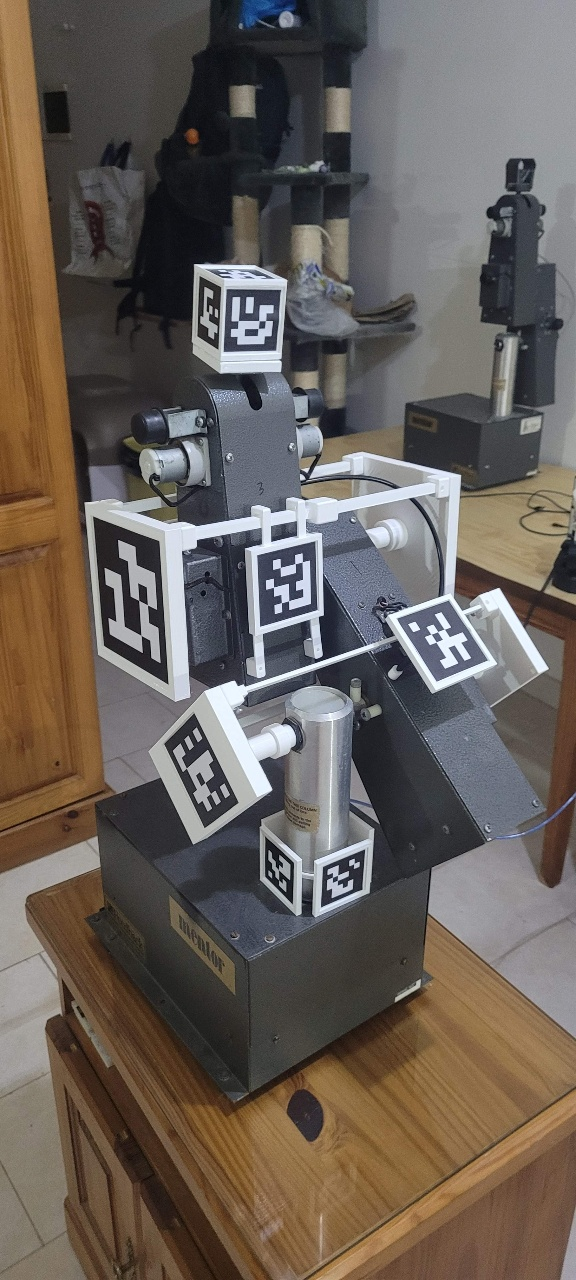Robot: (83, 261, 549, 920)
